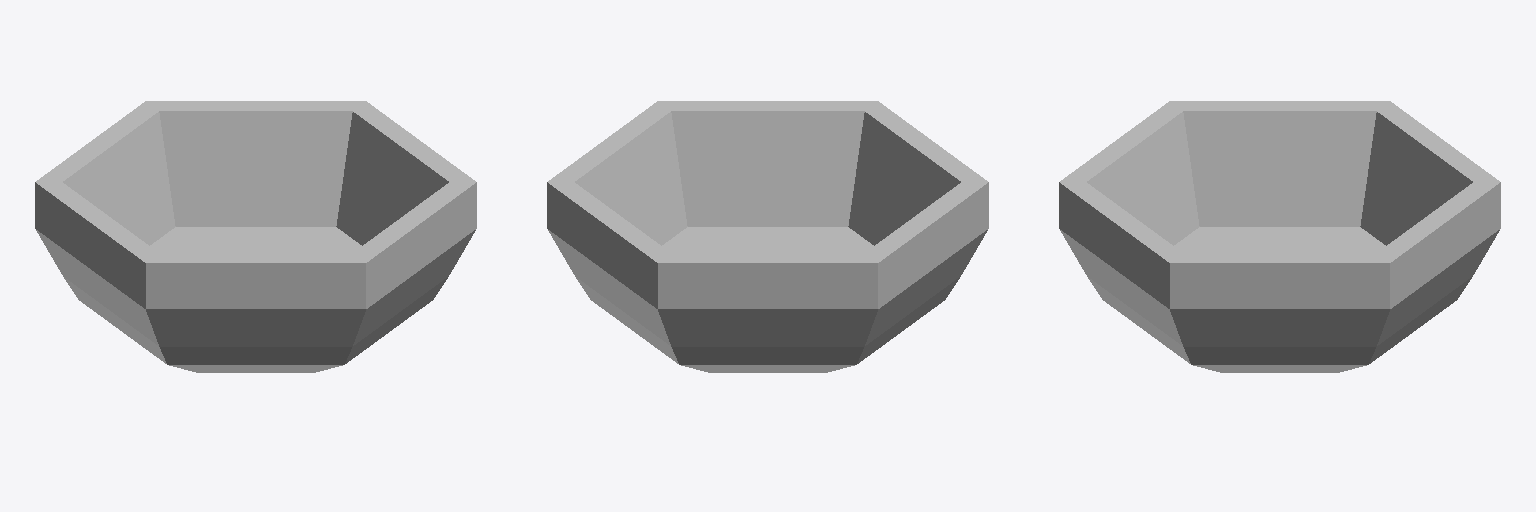
Rendered from bowl.obj.
The picture shows the model from 3 angles: view 1: azimuth 30°, elevation 25°; view 2: azimuth 150°, elevation 25°; view 3: azimuth 270°, elevation 25°; orthographic projection.
Visible parts, largest first — view 1: bowl; view 2: bowl; view 3: bowl.
Boxes of the visible parts, <box> form: bowl: <box>35,101,476,372</box>; bowl: <box>547,101,988,372</box>; bowl: <box>1059,101,1500,372</box>.
Bounding box in the file's own units: 0.5022 × 0.2138 × 0.5798.